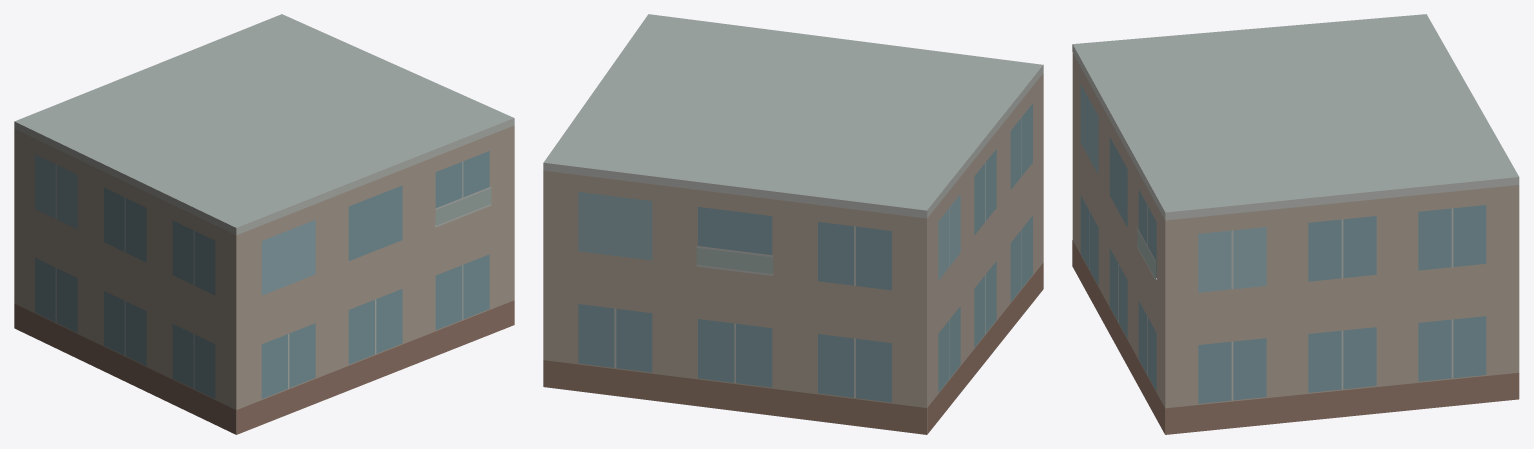
Rendered from survey-upis-32490719.glb.
The picture shows the model from 3 angles, left to right: view 1: azimuth 30°, elevation 25°; view 2: azimuth 150°, elevation 25°; view 3: azimuth 270°, elevation 25°; orthographic projection. The views are drawn at different scales.
Parts seen in each view (by area): view 1: survey-upis-32490719.tmp; view 2: survey-upis-32490719.tmp; view 3: survey-upis-32490719.tmp.
Boxes of the visible parts, x1,y1,x2,y2 form: survey-upis-32490719.tmp: (14, 14, 514, 434); survey-upis-32490719.tmp: (543, 14, 1043, 434); survey-upis-32490719.tmp: (1072, 14, 1519, 434).
Size of the model in its own units: 13.23 by 6.9 by 12.58.
